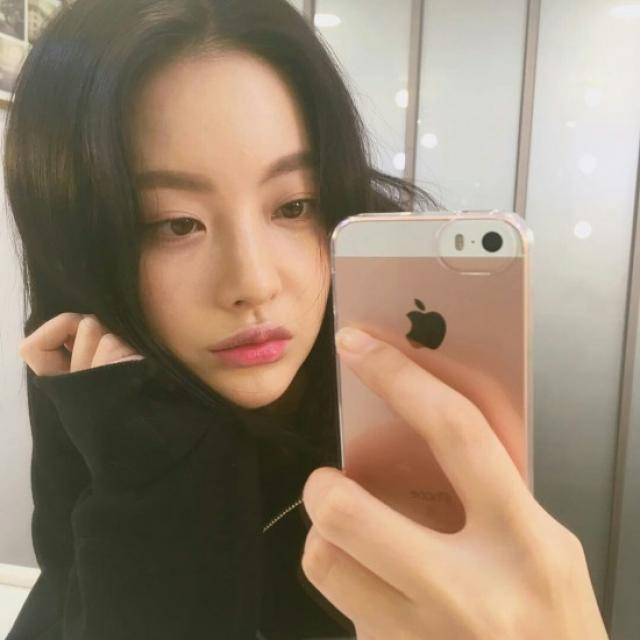phone: (329, 212, 532, 601)
